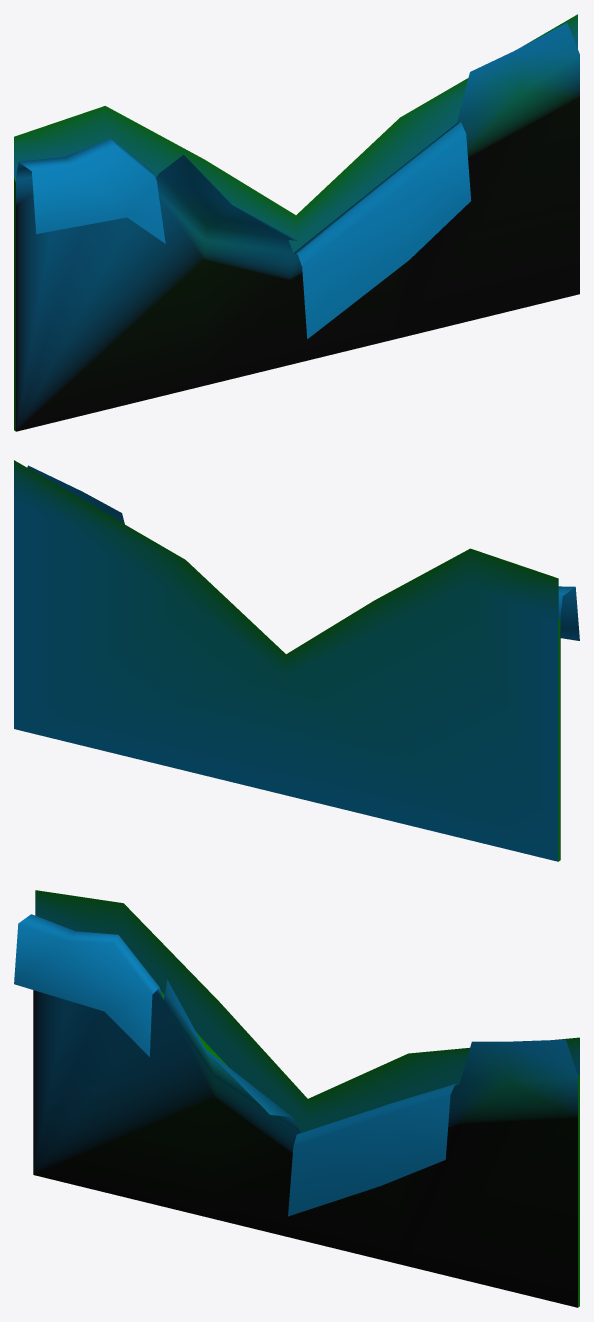
The model's file is DBK_Drywall_Tile_A_Single.fbx.
The picture shows the model from 3 angles, top to bottom: view 1: azimuth 30°, elevation 25°; view 2: azimuth 150°, elevation 25°; view 3: azimuth 330°, elevation 25°; orthographic projection. The views are drawn at different scales.
Parts seen in each view (by area): view 1: DBK_Drywall_Tile_A_Single; view 2: DBK_Drywall_Tile_A_Single; view 3: DBK_Drywall_Tile_A_Single.
Part boxes in pixels (x1,y1,x2,y2): DBK_Drywall_Tile_A_Single: (14, 14, 579, 431); DBK_Drywall_Tile_A_Single: (14, 460, 579, 861); DBK_Drywall_Tile_A_Single: (14, 890, 579, 1307).
Size of what is drawn, in the model's own units: 300 by 154 by 20.56.
